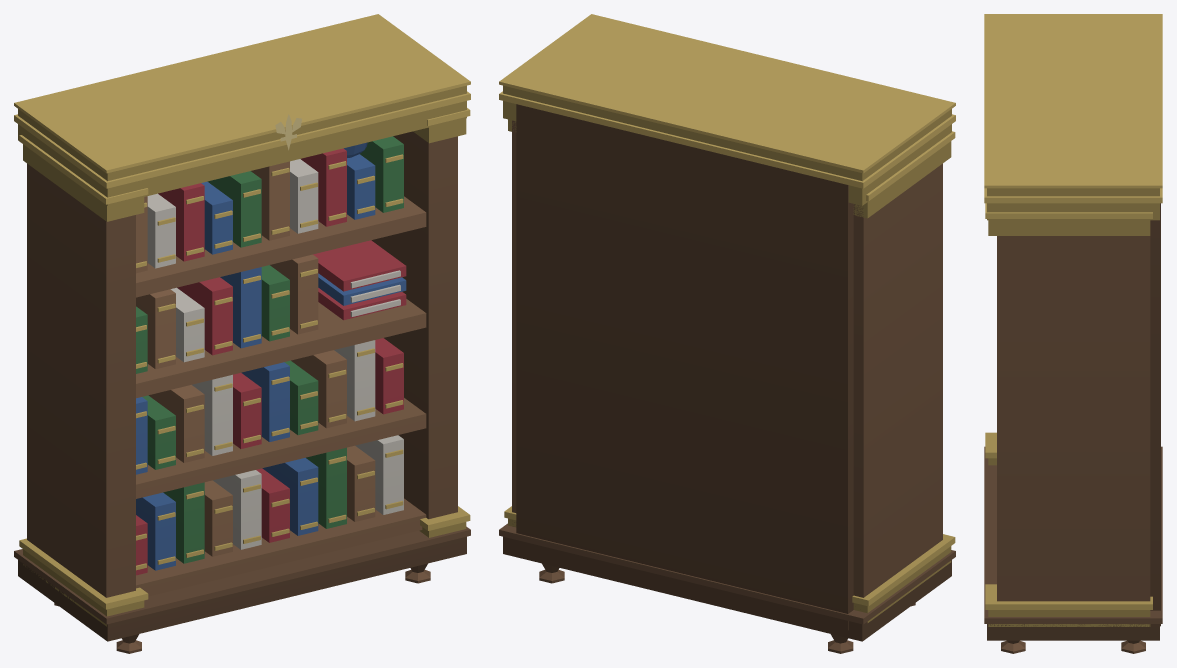
File: palace_bookcase.glb
3 views of the same model, side by side, from view 1: azimuth 30°, elevation 25°; view 2: azimuth 150°, elevation 25°; view 3: azimuth 270°, elevation 25° (orthographic). The views are drawn at different scales.
Visible parts, largest first — view 1: palace_bookcase; view 2: palace_bookcase; view 3: palace_bookcase.
Part boxes in pixels (left/top/right/bottom): palace_bookcase: left=14, top=14, right=470, bottom=653; palace_bookcase: left=499, top=14, right=955, bottom=653; palace_bookcase: left=984, top=14, right=1162, bottom=653.
Bounding box in the file's own units: 1.86 × 2.48 × 0.8155.
